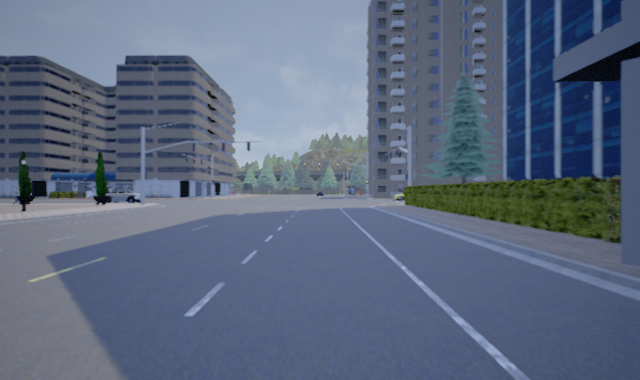vehicle: (100, 188, 141, 204), (393, 190, 425, 201)
